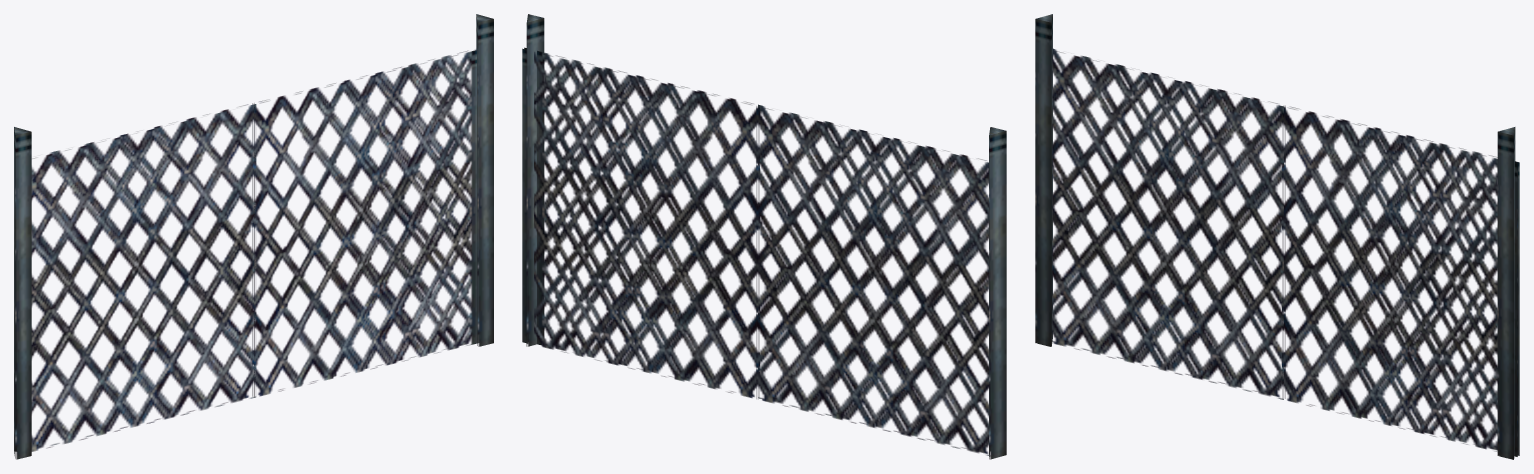
Rendered from Environment - Prop - Chain Link Fence 01 - PMWallChn1.glb.
The picture shows the model from 3 angles, left to right: view 1: azimuth 30°, elevation 25°; view 2: azimuth 150°, elevation 25°; view 3: azimuth 330°, elevation 25°; orthographic projection.
Parts seen in each view (by area): view 1: PMWALLCHN1; view 2: PMWALLCHN1; view 3: PMWALLCHN1.
Part boxes in pixels (box(x1,y1,x2,y2)): PMWALLCHN1: box(14, 14, 493, 459); PMWALLCHN1: box(522, 14, 1006, 459); PMWALLCHN1: box(1035, 14, 1519, 459).
Size of the model in its own units: 28.35 by 18.36 by 0.9621.
1 material, 1 textured.
